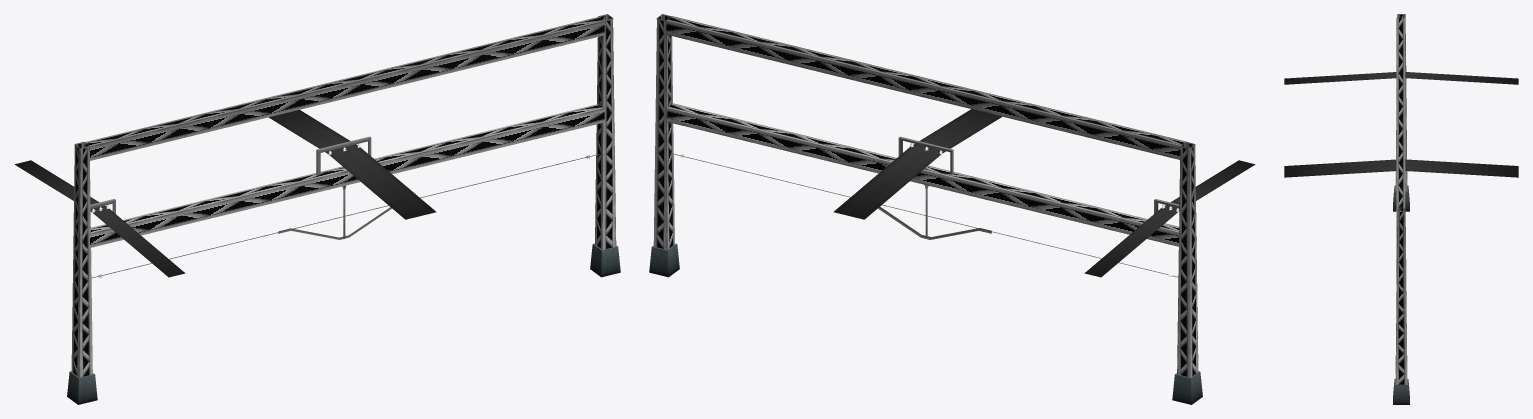
Rendered from KASENCHU_2ST.glb.
3 views of the same model, side by side, from view 1: azimuth 30°, elevation 25°; view 2: azimuth 150°, elevation 25°; view 3: azimuth 270°, elevation 25° (orthographic). The views are drawn at different scales.
Parts seen in each view (by area): view 1: FRAME_ROOT; view 2: FRAME_ROOT; view 3: FRAME_ROOT.
Boxes of the visible parts, x1,y1,x2,y2 form: FRAME_ROOT: (14, 14, 620, 404); FRAME_ROOT: (649, 14, 1255, 404); FRAME_ROOT: (1284, 14, 1518, 404).
Bounding box in the file's own units: 80.26 × 35.85 × 39.61.
5 materials, 5 textured.
